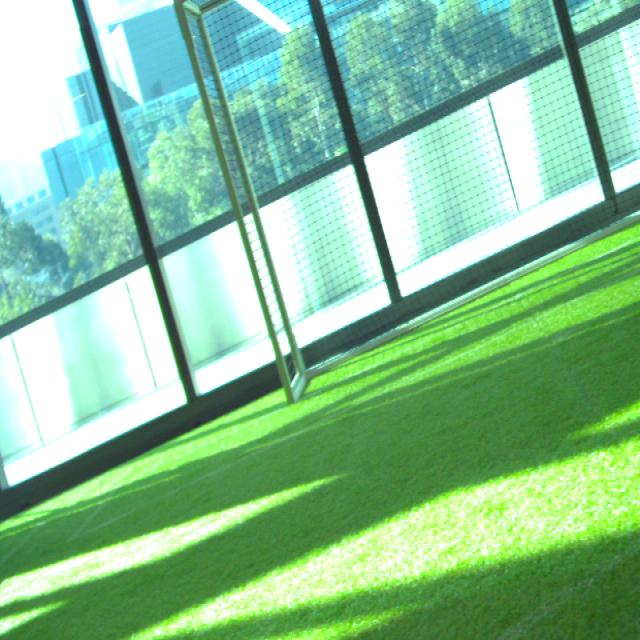goalpost: (172, 3, 296, 401)
